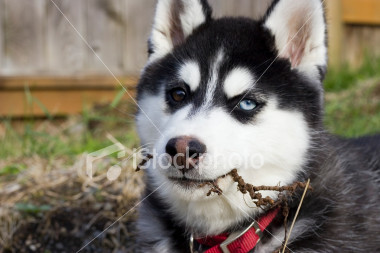dog: (128, 0, 379, 252)
